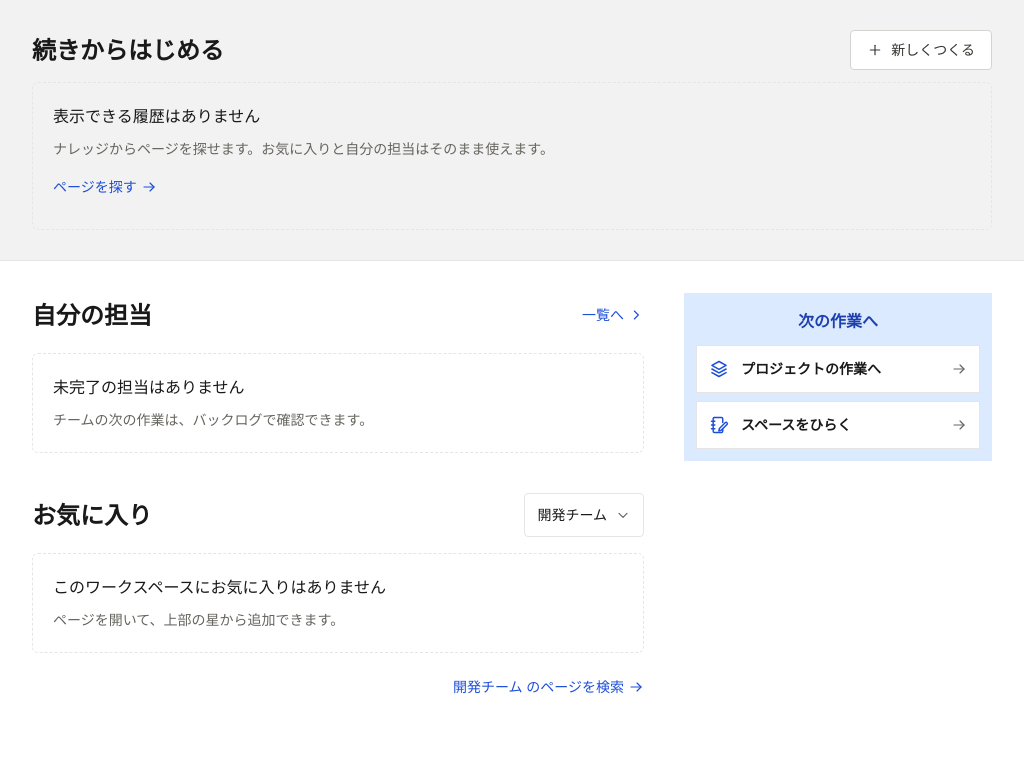
HomePage の描き直しの範囲 › 「新しくつくる」を開いて閉じても、ホームの各欄を描き直さない
The width and height of the screenshot is (1024, 768).
Check: the text "表示できる履歴はありません" is shown, box [53, 105, 260, 127]
Check: the text "未完了の担当はありません" is shown, box [53, 376, 244, 398]
Click the button "新しくつくる" at (921, 50), box [850, 30, 992, 70]
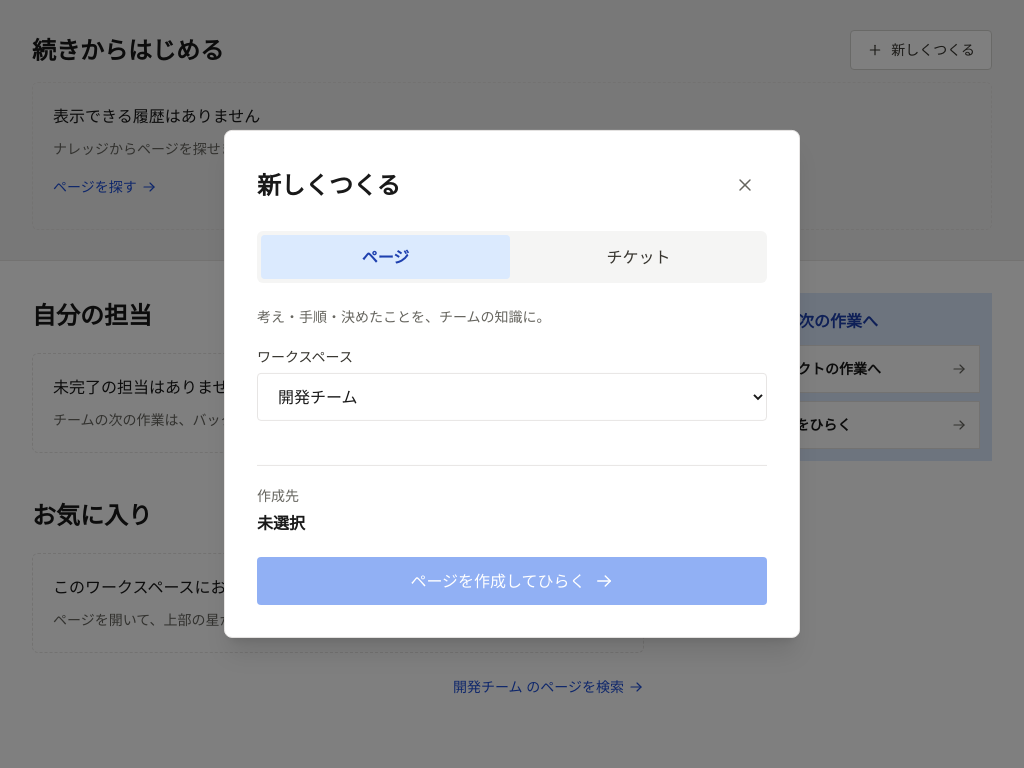
Check: the dialog is shown
Press Escape in the dialog, box [224, 130, 800, 638]
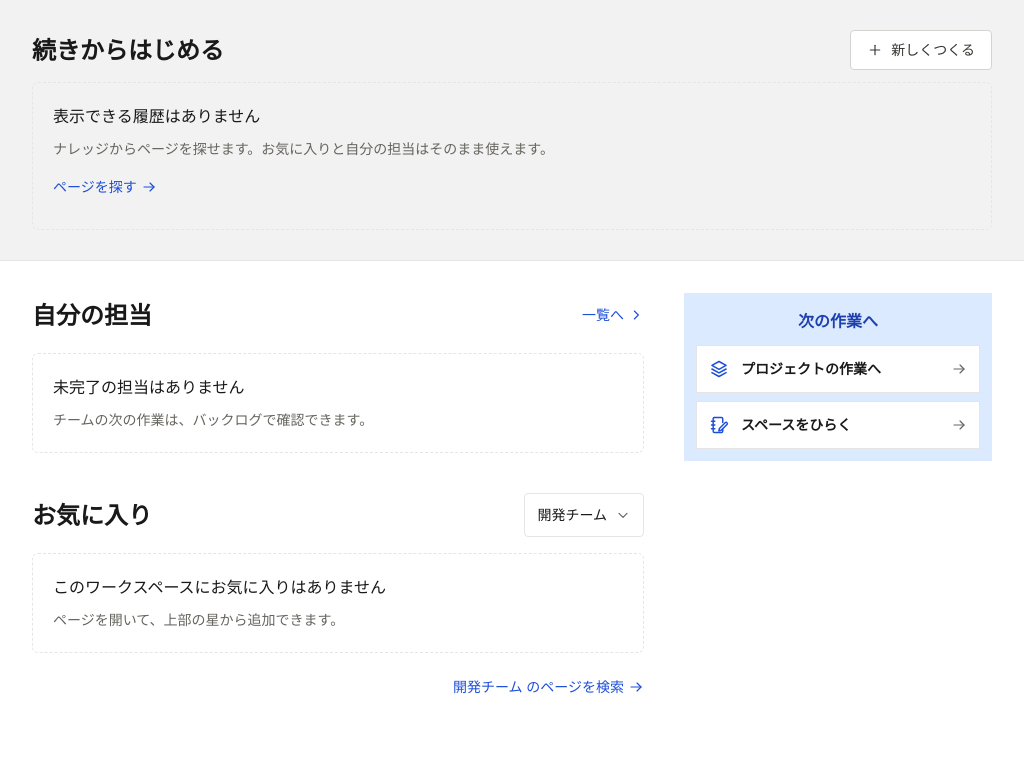
Check: the dialog is gone
